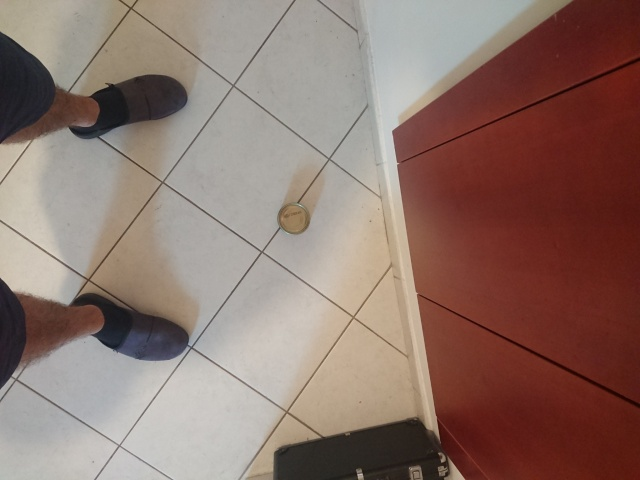Giana Tuna Salad Mexico 185g: (276, 200, 312, 237)
